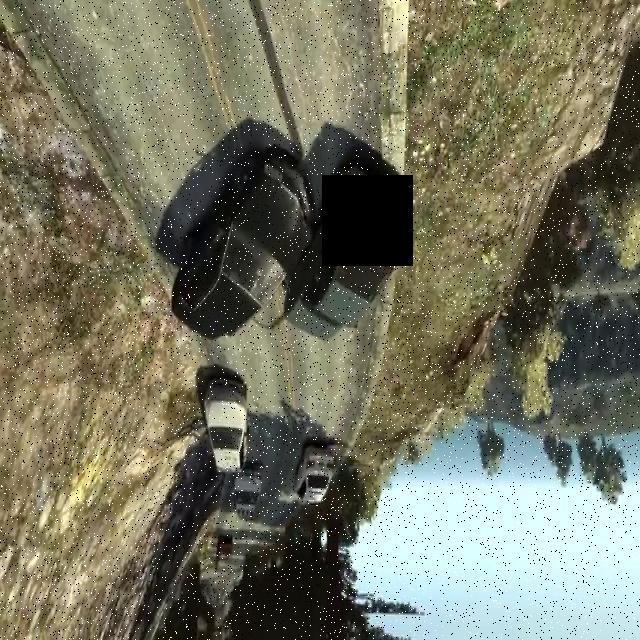vehicle: (160, 118, 494, 394)
